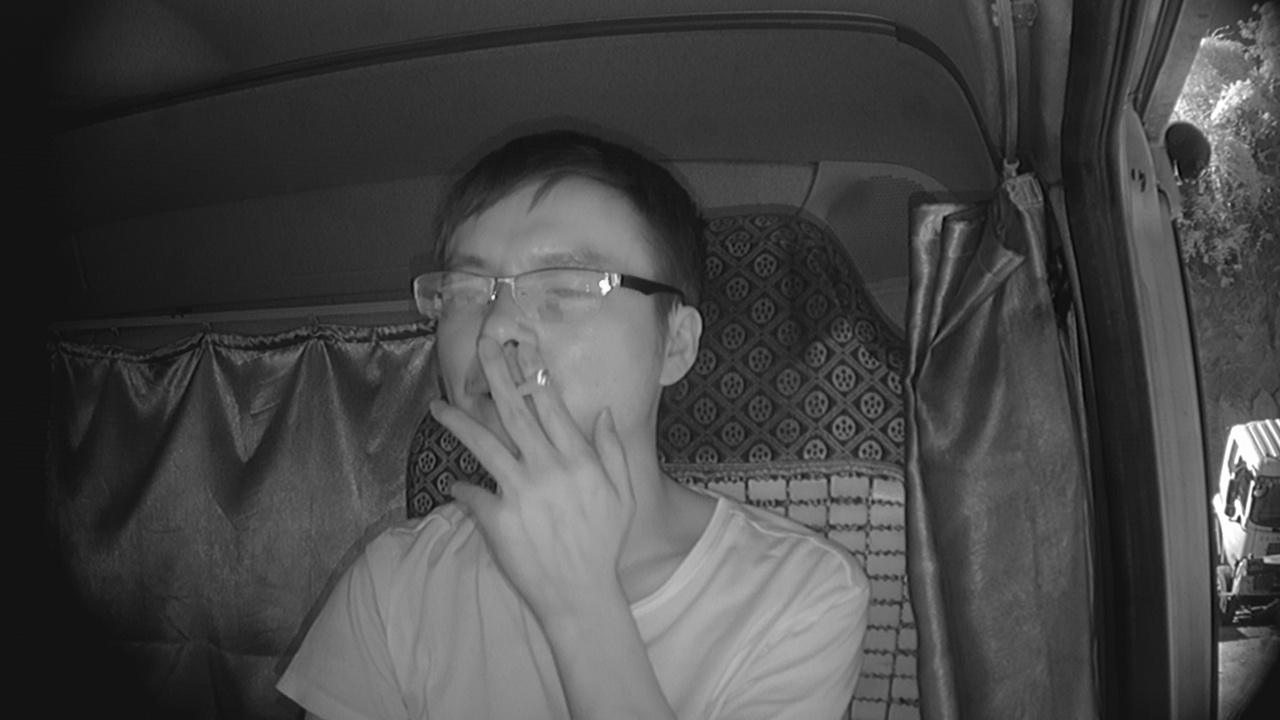hand: (457, 351, 632, 583)
